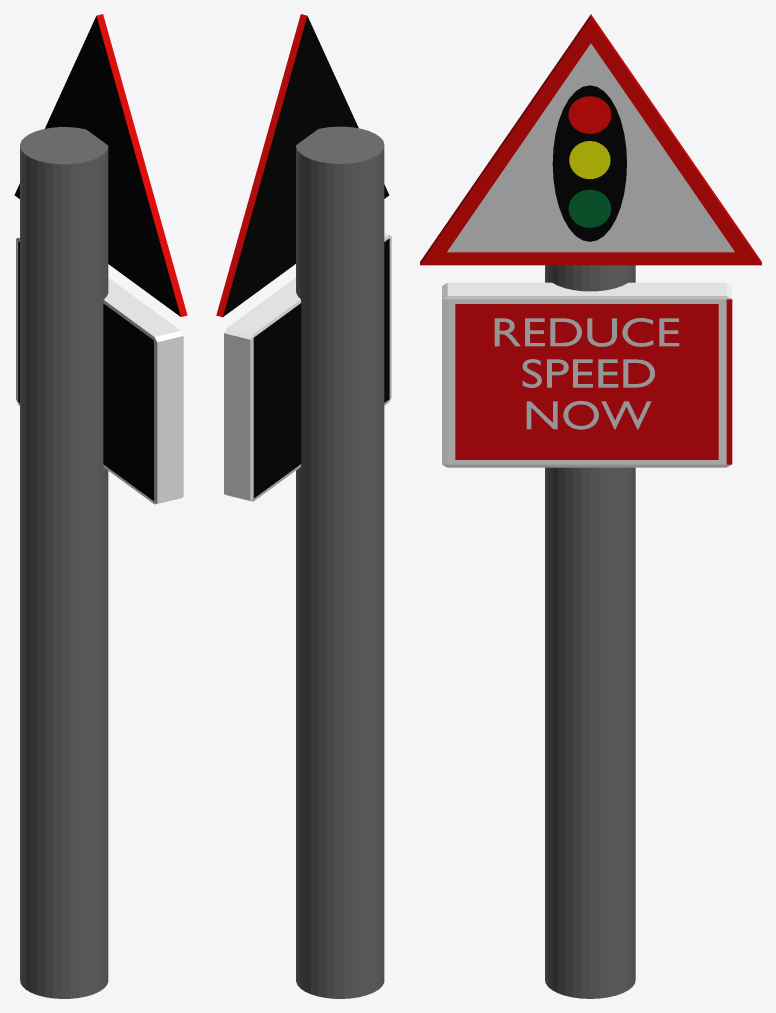
File: traffic_lights_ahead.fbx
3 renders of one model, left to right at view 1: azimuth 30°, elevation 25°; view 2: azimuth 150°, elevation 25°; view 3: azimuth 270°, elevation 25°, orthographic. The views are drawn at different scales.
Visible parts, largest first — view 1: Cylinder, Cube, Circle; view 2: Cylinder, Cube, Circle; view 3: Cylinder, Cube, Circle, Circle.001, Text, Text.001, Text.002, Circle.004, Circle.002, Circle.003.
Boxes of the visible parts, left/top/right/bottom form: Cylinder: left=20, top=127, right=108, bottom=998; Cube: left=16, top=237, right=183, bottom=504; Circle: left=14, top=14, right=187, bottom=316; Cylinder: left=296, top=126, right=384, bottom=998; Cube: left=224, top=234, right=391, bottom=501; Circle: left=216, top=14, right=389, bottom=317; Cylinder: left=545, top=265, right=635, bottom=998; Cube: left=442, top=282, right=732, bottom=467; Circle: left=420, top=14, right=761, bottom=265; Circle.001: left=552, top=85, right=626, bottom=241; Text: left=494, top=318, right=679, bottom=346; Text.001: left=522, top=359, right=654, bottom=387; Text.002: left=526, top=401, right=651, bottom=429; Circle.004: left=568, top=189, right=611, bottom=227; Circle.002: left=568, top=96, right=611, bottom=133; Circle.003: left=569, top=141, right=610, bottom=178.
Bounding box in the file's own units: 2.26 × 23.84 × 7.52.
